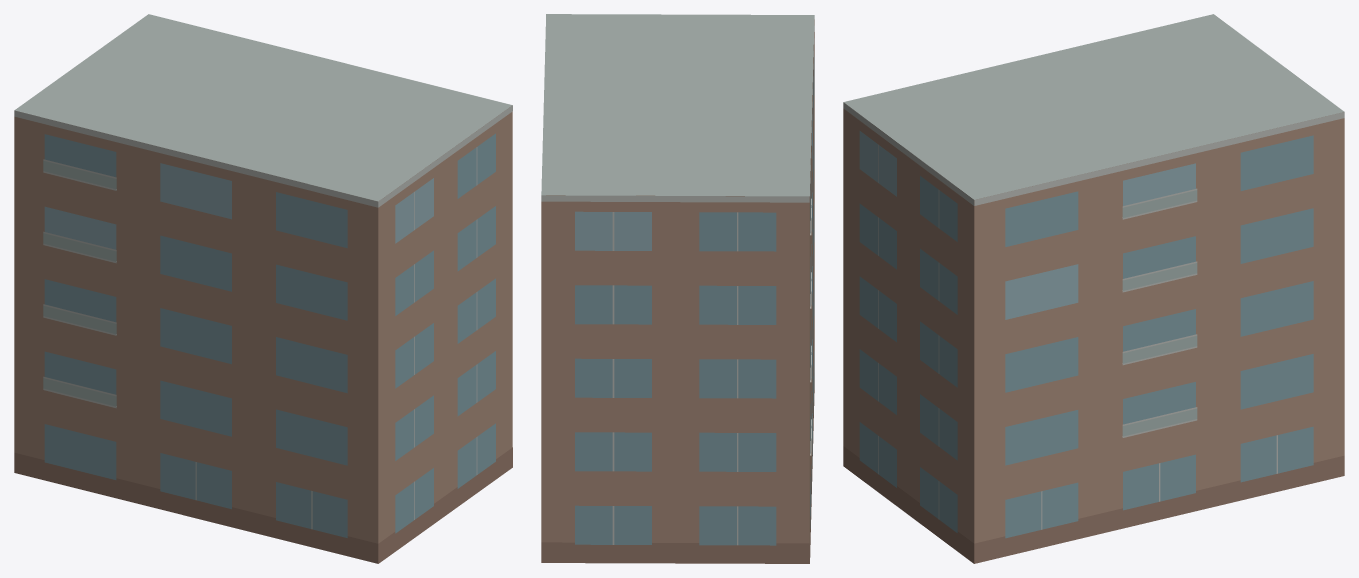
The model's file is survey-upis-32892468.glb.
3 views of the same model, side by side, from view 1: azimuth 30°, elevation 25°; view 2: azimuth 150°, elevation 25°; view 3: azimuth 270°, elevation 25° (orthographic).
Visible parts, largest first — view 1: survey-upis-32892468.tmp; view 2: survey-upis-32892468.tmp; view 3: survey-upis-32892468.tmp.
Part boxes in pixels (left/top/right/bottom): survey-upis-32892468.tmp: left=14, top=14, right=512, bottom=563; survey-upis-32892468.tmp: left=541, top=14, right=814, bottom=563; survey-upis-32892468.tmp: left=843, top=14, right=1344, bottom=563.
Bounding box in the file's own units: 15.67 × 14.3 × 17.86.
